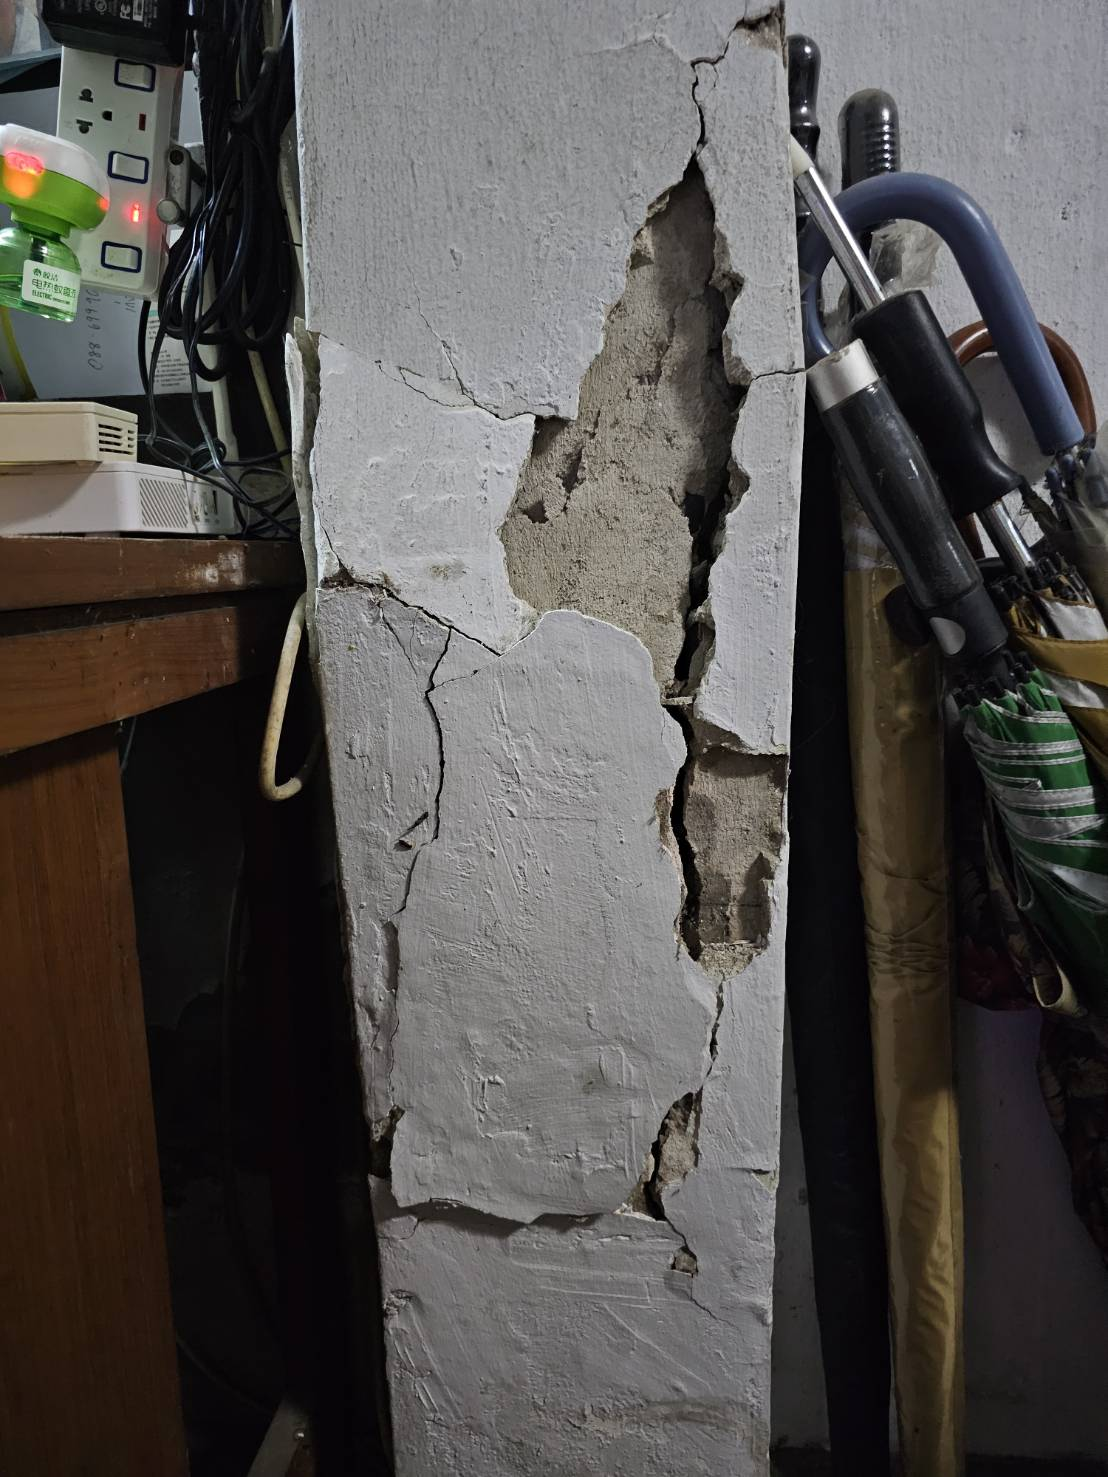High: (282, 9, 804, 1366)
